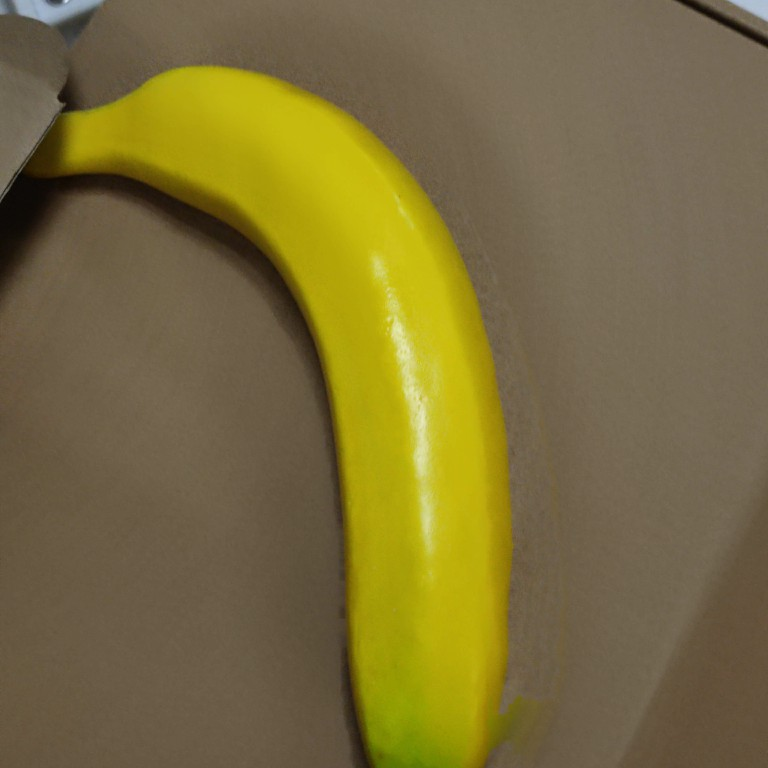fruit_banana: (21, 61, 519, 768)
